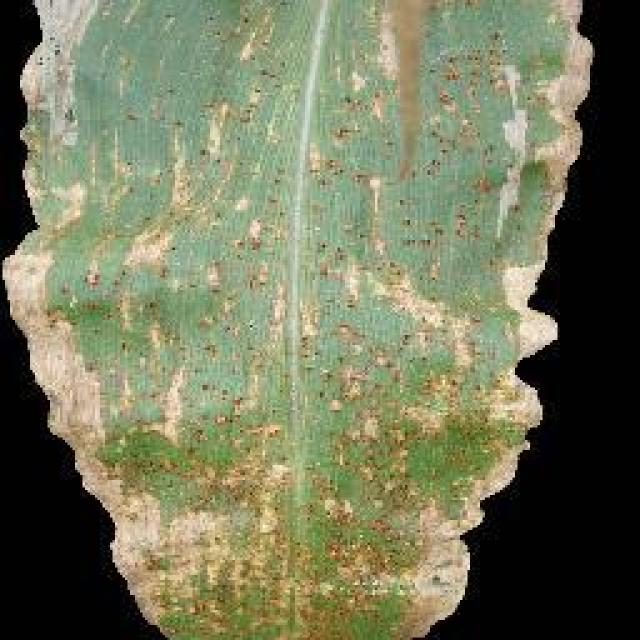Corn Common Rust: (108, 40, 550, 640)
